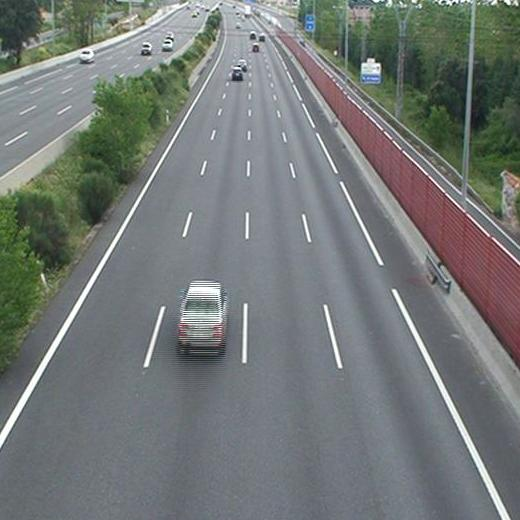car: (179, 282, 226, 348), (232, 67, 244, 79)
